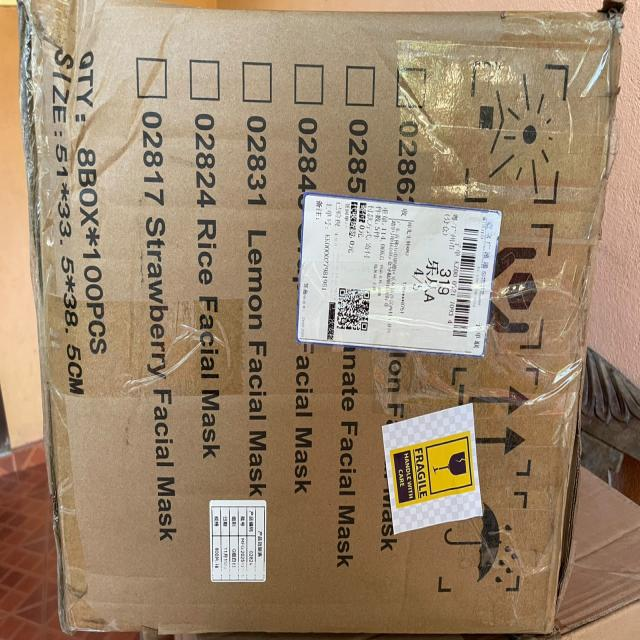carton_box: (8, 0, 630, 640)
export_mark_label: (298, 187, 500, 365)
fragile_label: (381, 408, 481, 531)
handle_with_care_label: (481, 206, 562, 369)
keep_dry_label: (445, 488, 532, 603)
package_damage: (9, 2, 61, 270), (589, 1, 627, 250), (550, 389, 585, 632)
protect_from_heat_label: (470, 42, 572, 206)
this_side_up_label: (452, 359, 546, 489)
